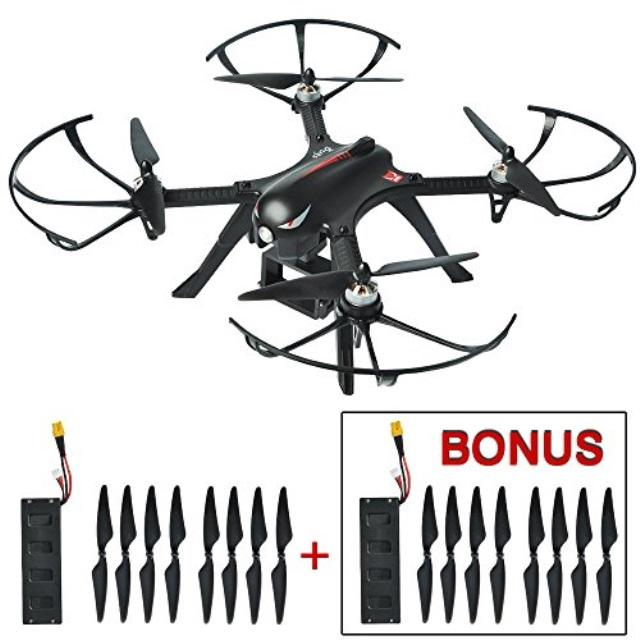drone: (0, 0, 623, 398)
